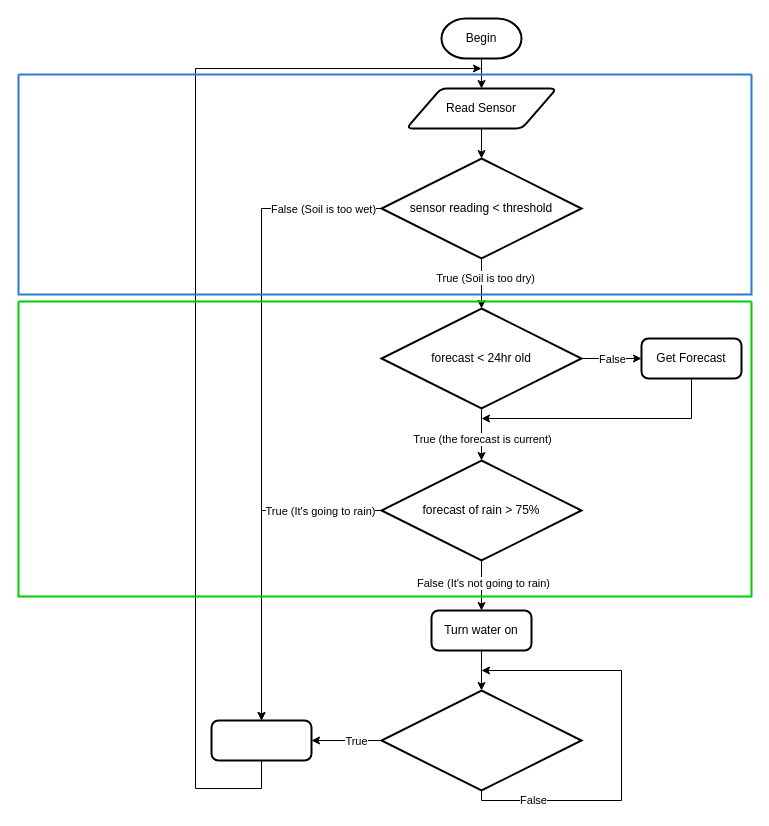
This 769x826 diagram has some shape labels left out. The shapes that lost their labels are listed below. From the top down, each one's centre as x and y in pixels, then its label:
At (384,184): "Operational Data".
At (384,448): "Optimisation Data".
At (261,740): "Turn water off".
At (481,740): "runtime expired?".
